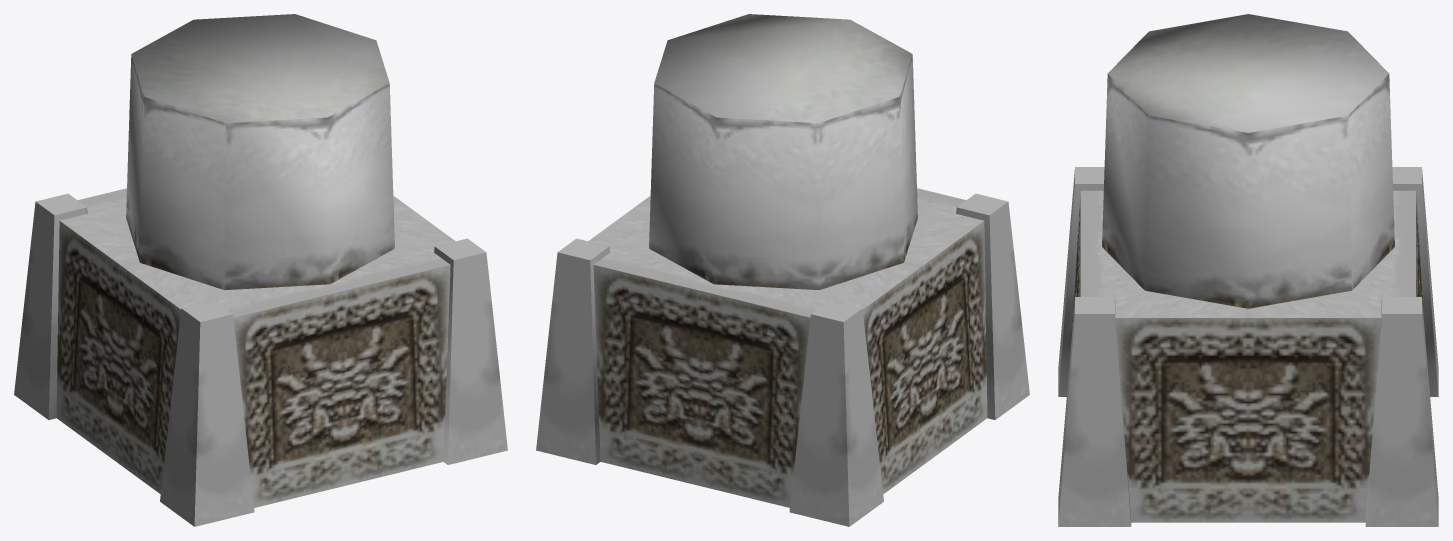
Rendered from general_obj_bigtower09.fbx.
3 renders of one model, left to right at view 1: azimuth 30°, elevation 25°; view 2: azimuth 150°, elevation 25°; view 3: azimuth 270°, elevation 25°, orthographic. The views are drawn at different scales.
Parts seen in each view (by area): view 1: Sphere01; view 2: Sphere01; view 3: Sphere01.
Boxes of the visible parts, <box> form: Sphere01: <box>14,14,507,526</box>; Sphere01: <box>536,14,1029,526</box>; Sphere01: <box>1058,14,1438,526</box>.
Size of the model in its own units: 5.22 by 5.64 by 5.21.
